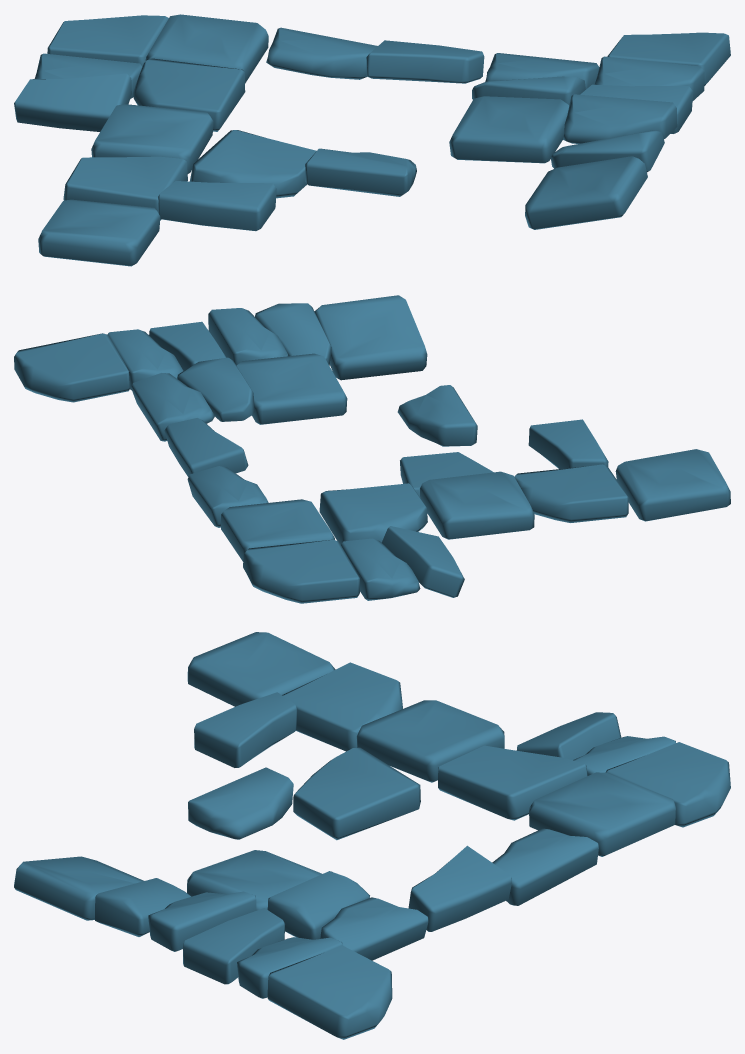
File: Floor_Break_02C_Lod0.fbx
3 renders of one model, top to bottom at view 1: azimuth 30°, elevation 25°; view 2: azimuth 150°, elevation 25°; view 3: azimuth 270°, elevation 25°, orthographic. The views are drawn at different scales.
Parts seen in each view (by area): view 1: Floor_Break_02C_Lod0; view 2: Floor_Break_02C_Lod0; view 3: Floor_Break_02C_Lod0.
Part boxes in pixels (x1,y1,x2,y2): Floor_Break_02C_Lod0: [14, 14, 730, 266]; Floor_Break_02C_Lod0: [14, 295, 730, 603]; Floor_Break_02C_Lod0: [14, 632, 730, 1039].
Size of the model in its own units: 405 by 31.02 by 322.
